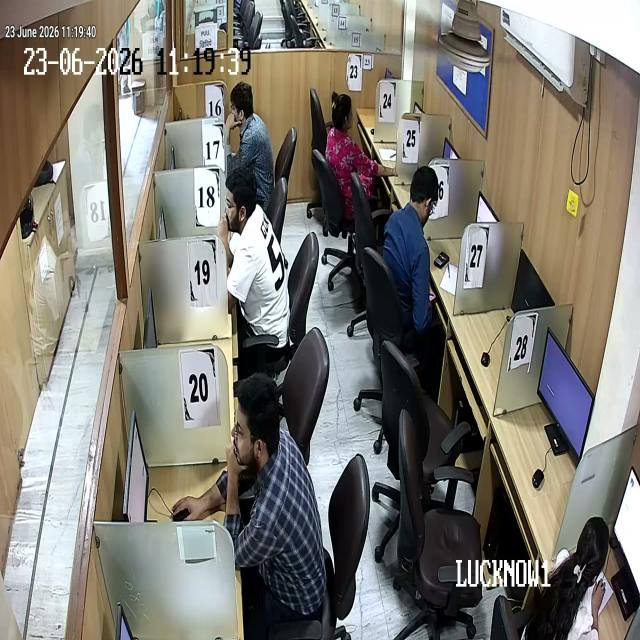phone: (426, 287, 440, 307)
